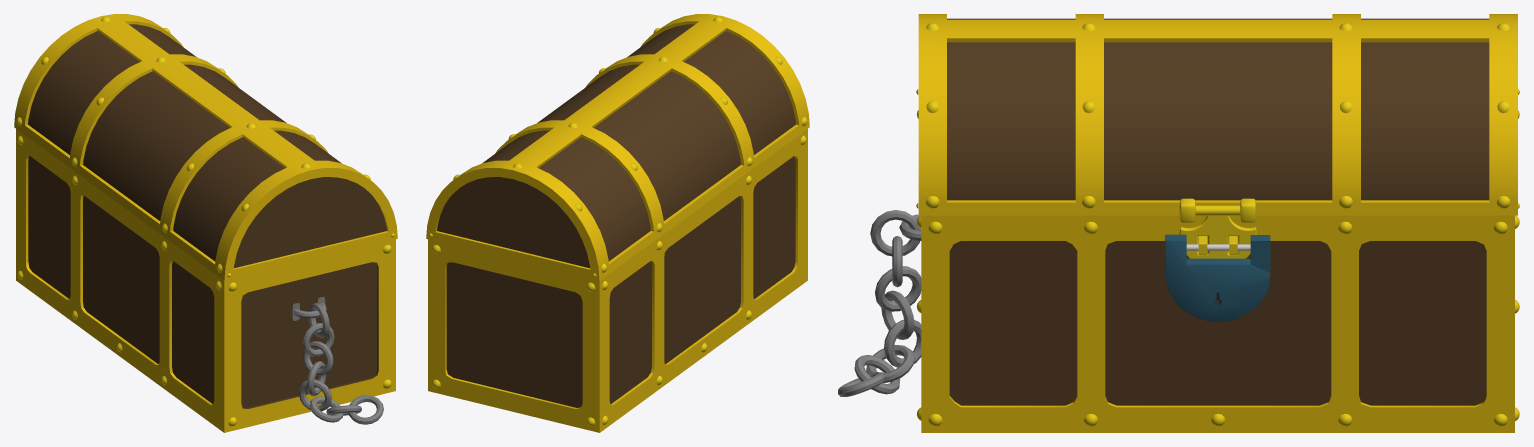
The model's file is treasurebox03_1_m.fbx.
The picture shows the model from 3 angles, left to right: view 1: azimuth 30°, elevation 25°; view 2: azimuth 150°, elevation 25°; view 3: azimuth 270°, elevation 25°; orthographic projection. The views are drawn at different scales.
Visible parts, largest first — view 1: Flap, UnderBox, Rings, Pin_Flap, Pin_Under; view 2: UnderBox, Flap, Pin_Flap, Pin_Under; view 3: UnderBox, Flap, Rings, Lock, Latch, Pin_Under, Pin_Flap, Bearing, Lock_Move.
Part boxes in pixels (<box>): Flap: <box>14,14,397,280</box>; UnderBox: <box>16,129,395,432</box>; Rings: <box>292,297,383,424</box>; Pin_Flap: <box>16,16,394,277</box>; Pin_Under: <box>17,135,391,426</box>; UnderBox: <box>428,129,807,432</box>; Flap: <box>426,14,809,280</box>; Pin_Flap: <box>429,16,807,277</box>; Pin_Under: <box>432,135,806,426</box>; UnderBox: <box>921,215,1514,432</box>; Flap: <box>918,14,1517,215</box>; Rings: <box>838,210,921,396</box>; Lock: <box>1165,234,1270,321</box>; Latch: <box>1179,205,1256,258</box>; Pin_Under: <box>916,110,1519,426</box>; Pin_Flap: <box>916,23,1519,208</box>; Bearing: <box>1179,198,1256,222</box>; Lock_Move: <box>1250,235,1270,273</box>.
Bounding box in the file's own units: 220 × 275 × 483.
